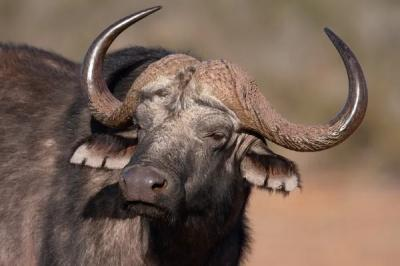buffalo: (0, 6, 367, 265)
